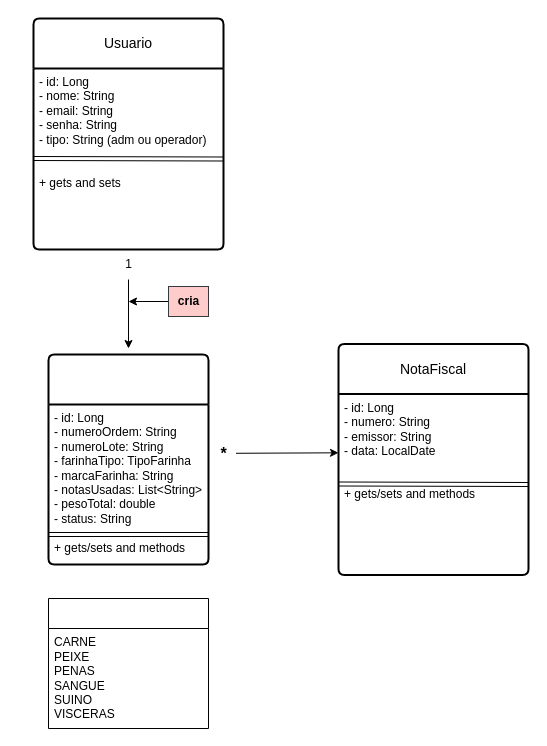
The diagram is 547 pixels wide and 746 high, and some of its shapes have lost their labels. The shapes that lost their labels are listed below. From the top down, each one's box as (x1, y1, x2, y2) in pixels, then its label:
(47, 353, 209, 565): OrdemProdução
(48, 598, 208, 728): enum TipoFarinha
